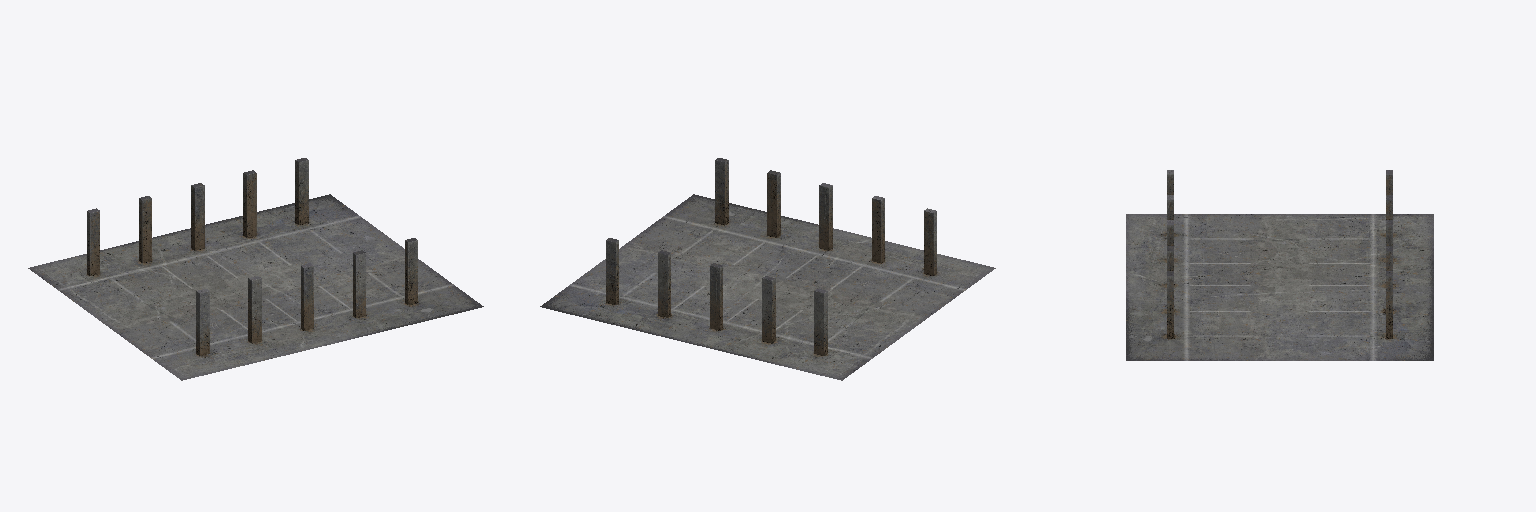
3 renders of one model, left to right at view 1: azimuth 30°, elevation 25°; view 2: azimuth 150°, elevation 25°; view 3: azimuth 270°, elevation 25°, orthographic.
Visible parts, largest first — view 1: Plane, Symmetry.1; view 2: Plane, Symmetry.1; view 3: Plane, Symmetry.1.
Boxes of the visible parts, x1,y1,x2,y2 form: Plane: [28, 194, 483, 380]; Symmetry.1: [87, 158, 417, 355]; Plane: [540, 194, 995, 380]; Symmetry.1: [606, 158, 936, 355]; Plane: [1126, 214, 1433, 360]; Symmetry.1: [1167, 170, 1392, 338].
Bounding box in the file's own units: 717 × 143 × 632.
Materials: 1 (1 with a texture image).